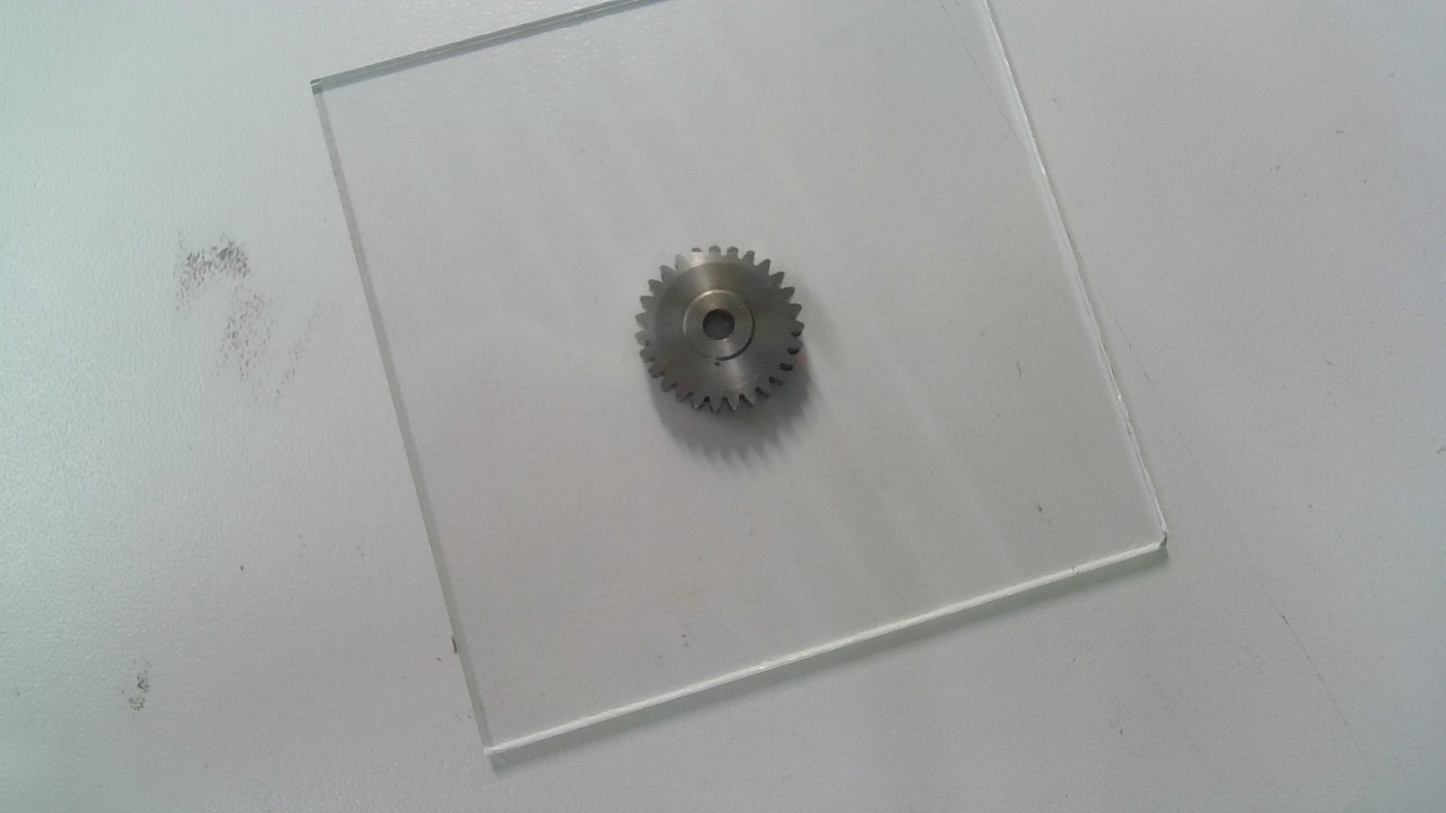gear: (631, 238, 805, 415)
